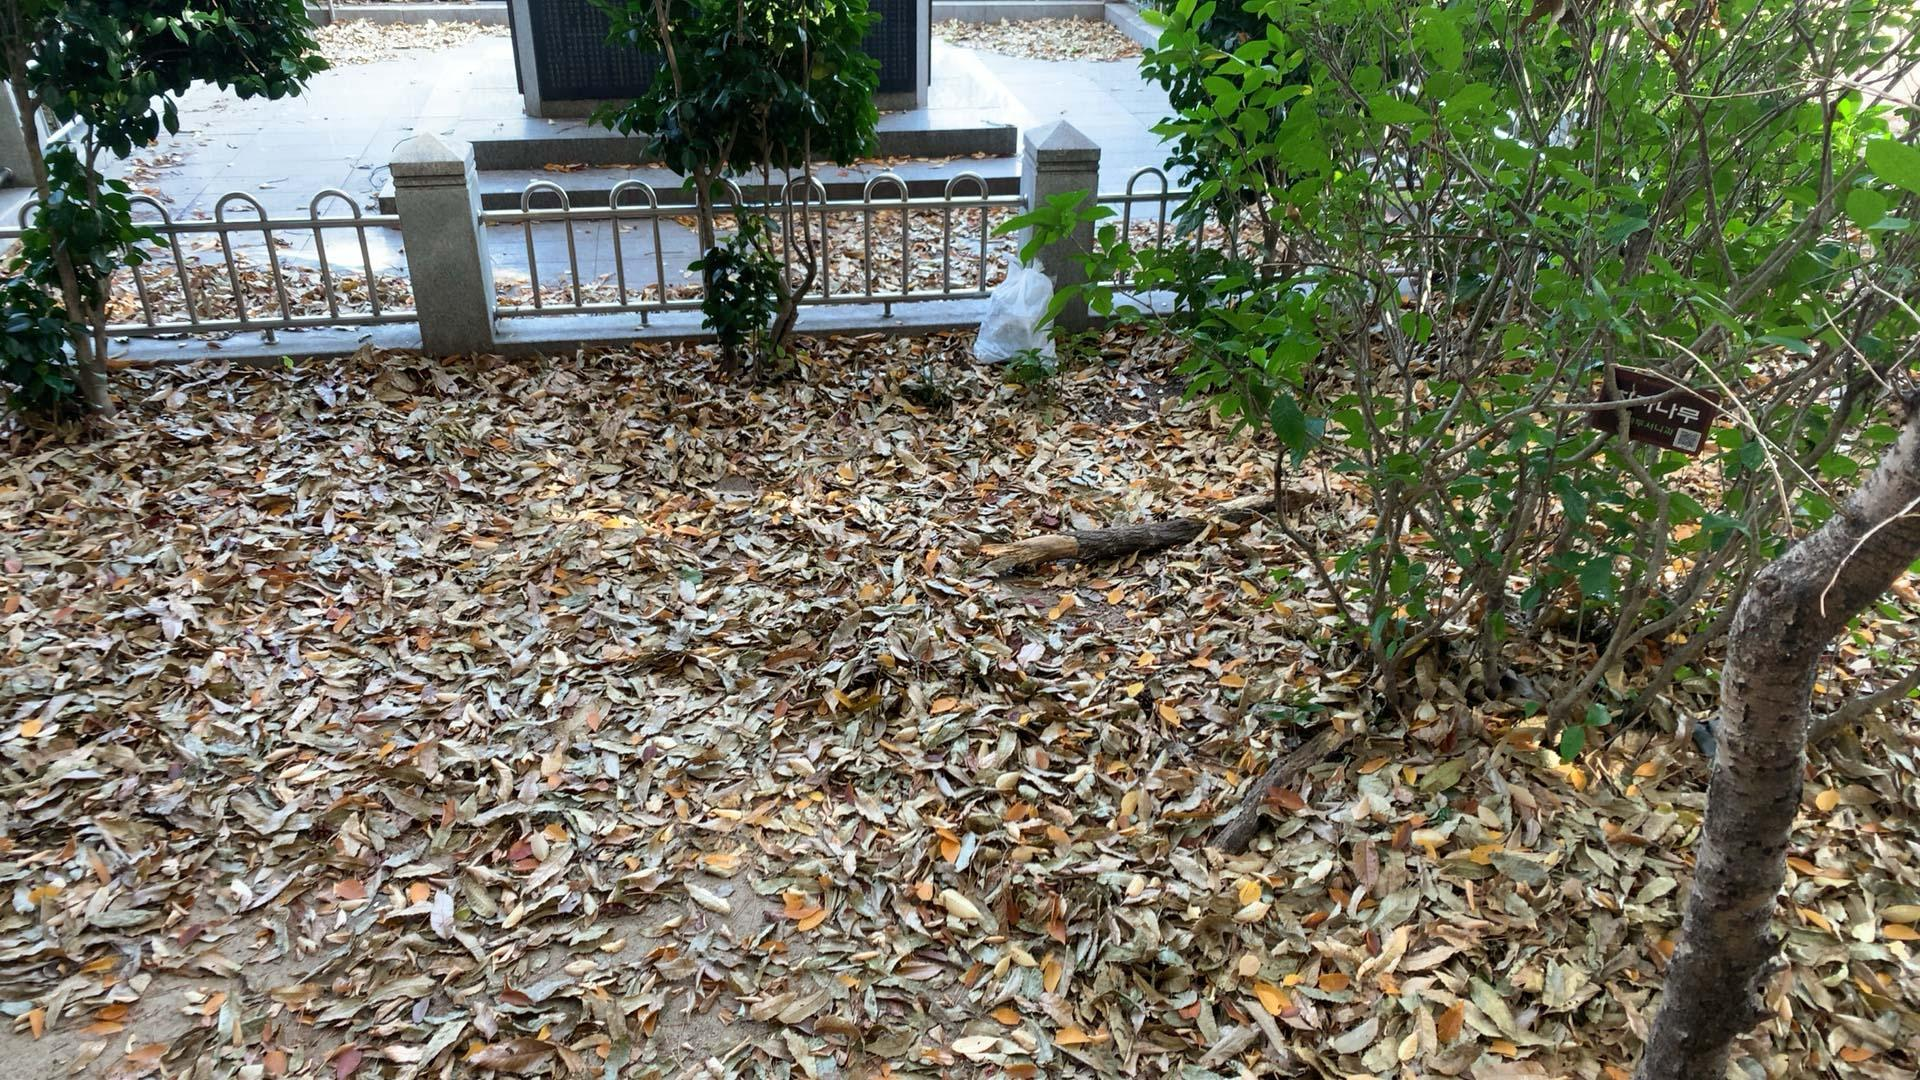white_bag: (971, 249, 1067, 372)
